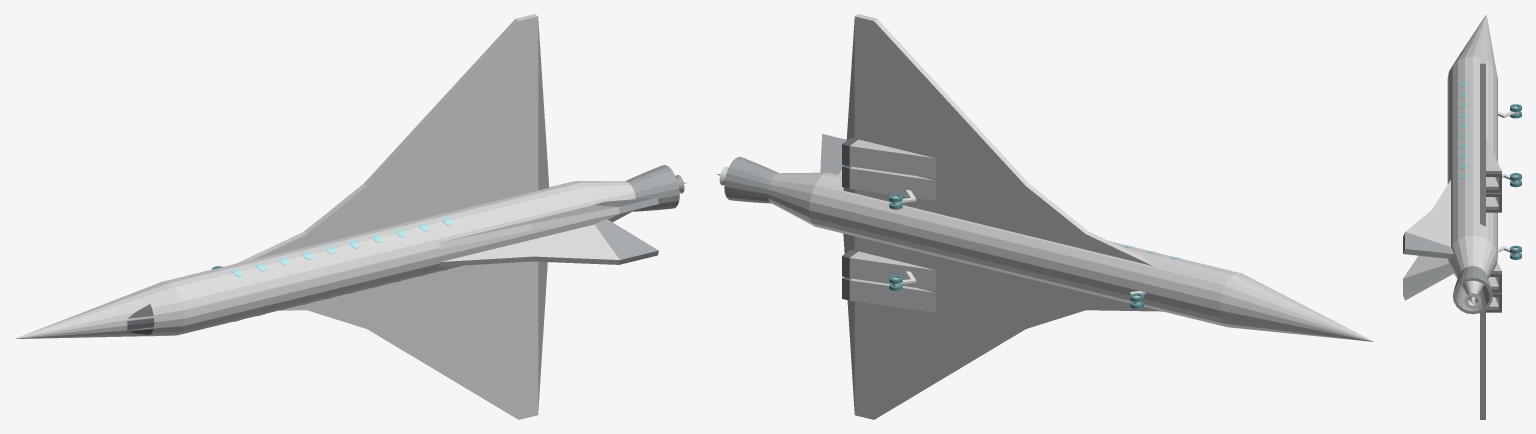
3 views of the same model, side by side, from view 1: azimuth 30°, elevation 25°; view 2: azimuth 150°, elevation 25°; view 3: azimuth 270°, elevation 25° (orthographic). The views are drawn at different scales.
Visible parts, largest first — view 1: color_16448250, color_6383466, color_7720667; view 2: color_16448250, color_10988977, color_6383466, color_2829873; view 3: color_16448250, color_6383466, color_10988977, color_2829873, color_1855578, color_7720667, color_14541540.
Boxes of the visible parts, x1,y1,x2,y2 form: color_16448250: [15, 14, 687, 419]; color_6383466: [538, 21, 679, 410]; color_7720667: [233, 217, 452, 321]; color_16448250: [717, 14, 1373, 419]; color_10988977: [719, 139, 1140, 312]; color_6383466: [724, 20, 854, 410]; color_2829873: [842, 137, 858, 300]; color_16448250: [1403, 14, 1497, 303]; color_6383466: [1403, 63, 1492, 419]; color_10988977: [1464, 106, 1518, 308]; color_2829873: [1459, 52, 1501, 312]; color_1855578: [1510, 104, 1521, 259]; color_7720667: [1459, 82, 1469, 178]; color_14541540: [1498, 111, 1515, 253].
Bounding box in the file's own units: 199 × 114 × 34.49.
